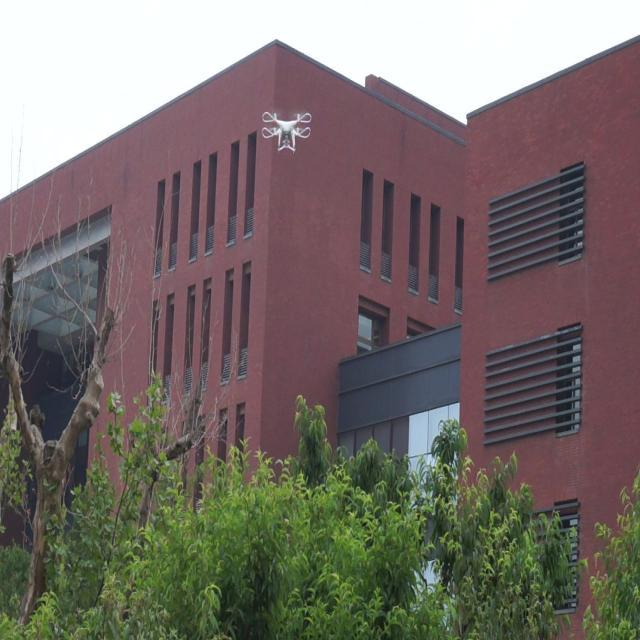drone: (259, 109, 313, 160)
